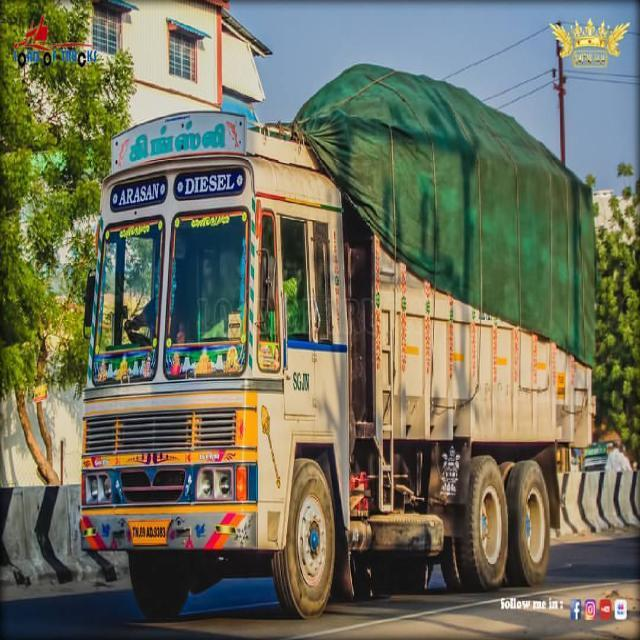Truck: (78, 66, 592, 621)
